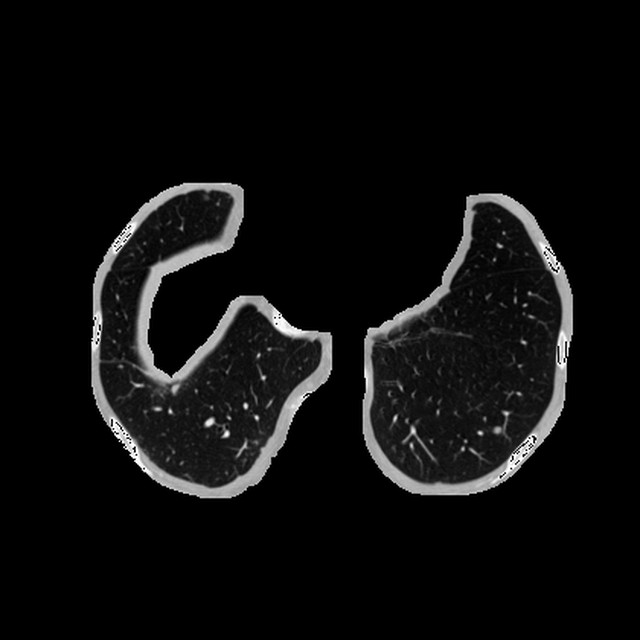PN: (494, 427, 500, 433)
